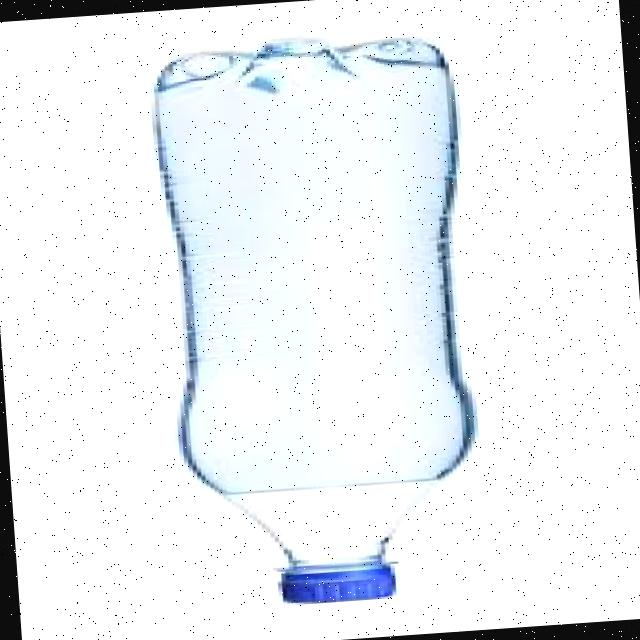bottle: (132, 24, 518, 620)
cap: (268, 551, 408, 616)
